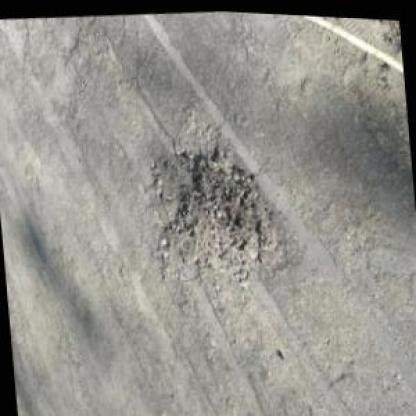pothole: (150, 138, 280, 282)
